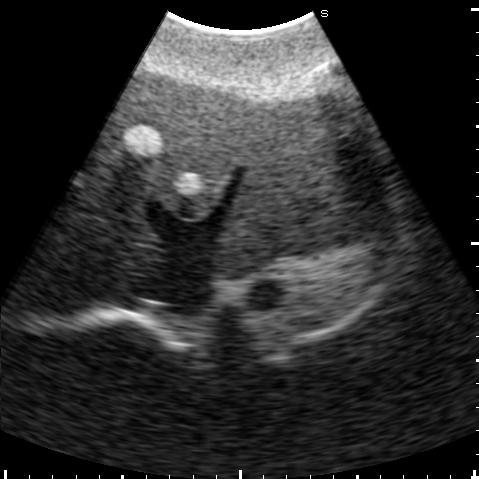S2: (217, 101, 337, 280)
S4: (97, 72, 269, 218)
S7: (21, 235, 125, 318)
S8: (61, 163, 158, 270)
Tumor: (121, 125, 163, 156), (174, 172, 202, 196)
